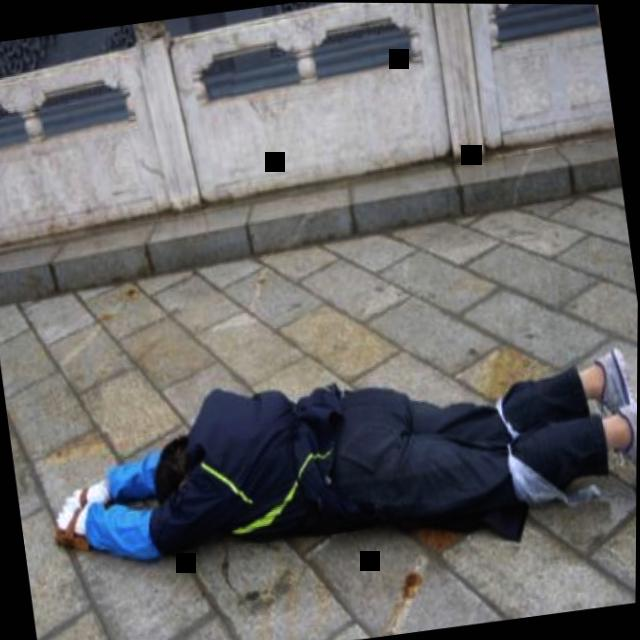Fall-Detected: (53, 304, 638, 605)
